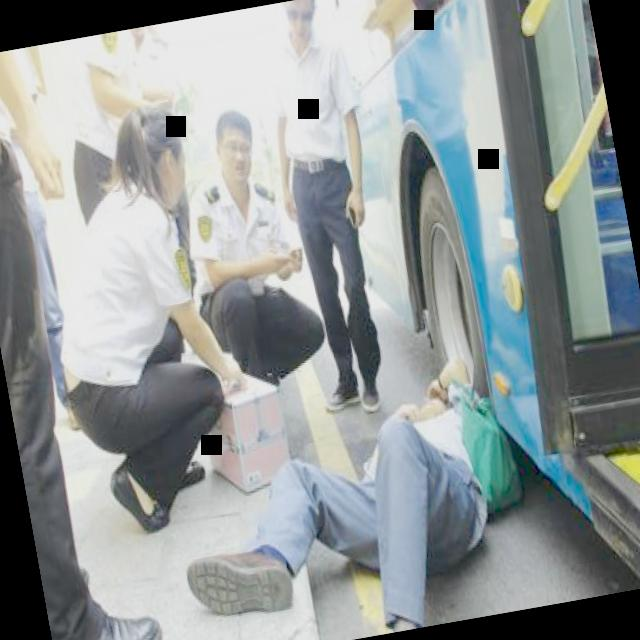Fall-Detected: (128, 320, 546, 640)
